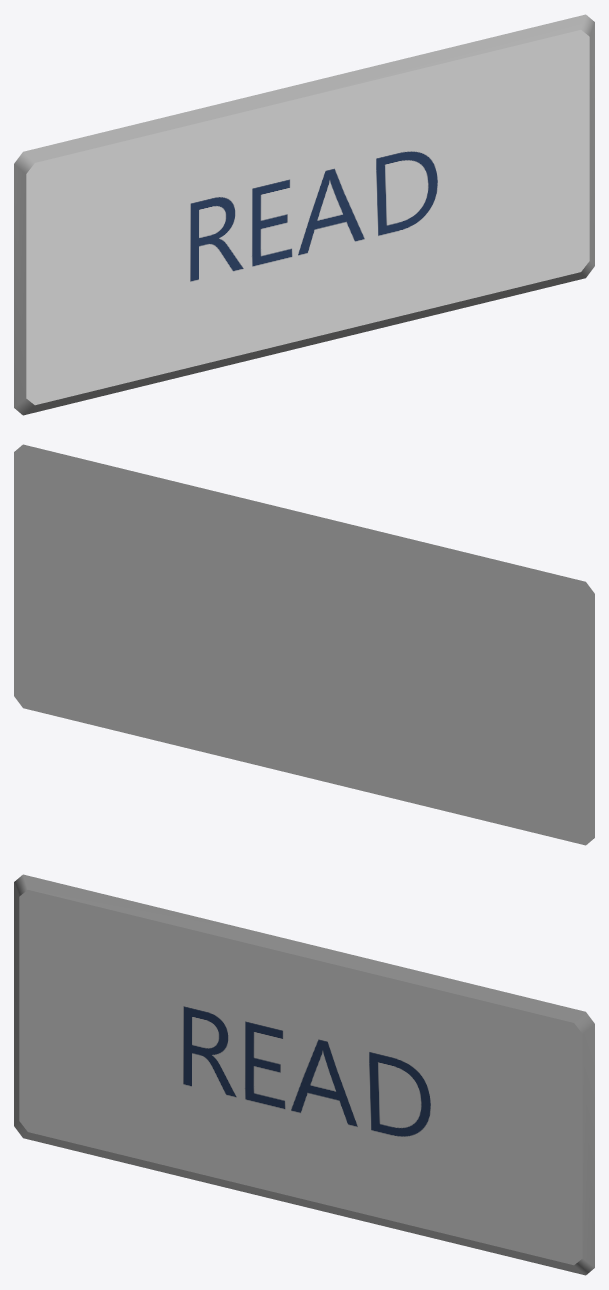
File: Read.fbx
3 renders of one model, top to bottom at view 1: azimuth 30°, elevation 25°; view 2: azimuth 150°, elevation 25°; view 3: azimuth 330°, elevation 25°, orthographic.
Visible parts, largest first — view 1: Read; view 2: Read; view 3: Read.
Boxes of the visible parts, <box> form: Read: <box>14,14,594,415</box>; Read: <box>14,444,594,845</box>; Read: <box>14,874,594,1275</box>.
Bounding box in the file's own units: 1 × 0.4342 × 0.0104.
2 materials, 1 textured.
